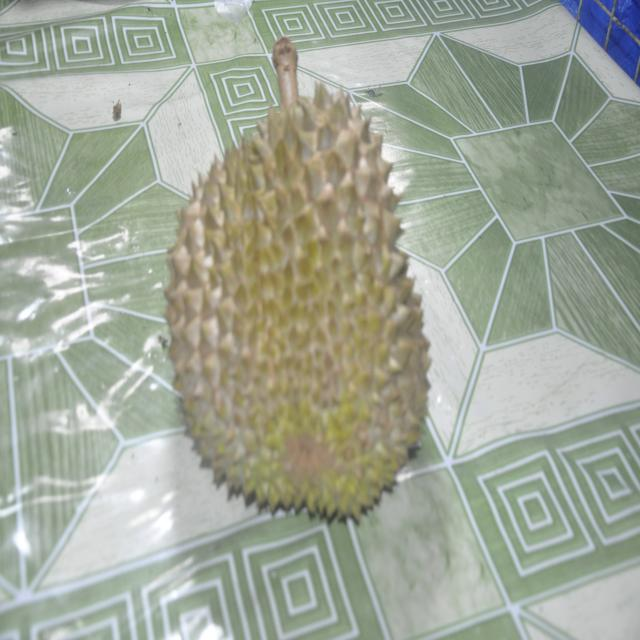mature: (165, 38, 429, 521)
